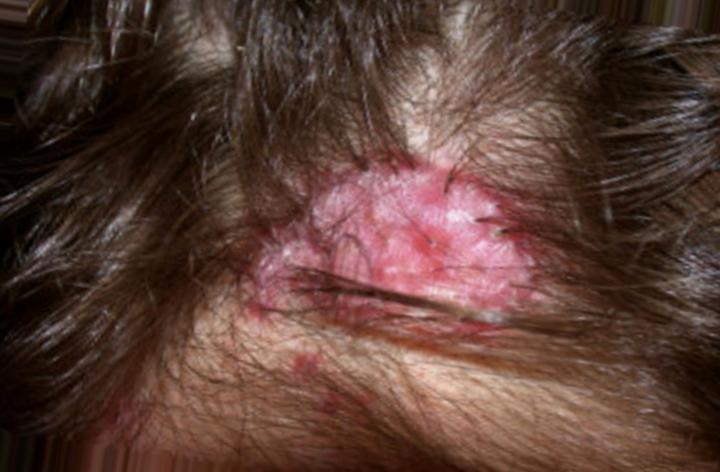Folliculitis: (304, 158, 534, 334)
